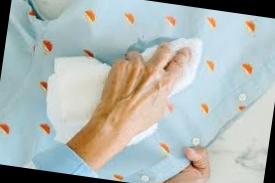oil: (148, 32, 171, 48), (130, 38, 149, 51)
